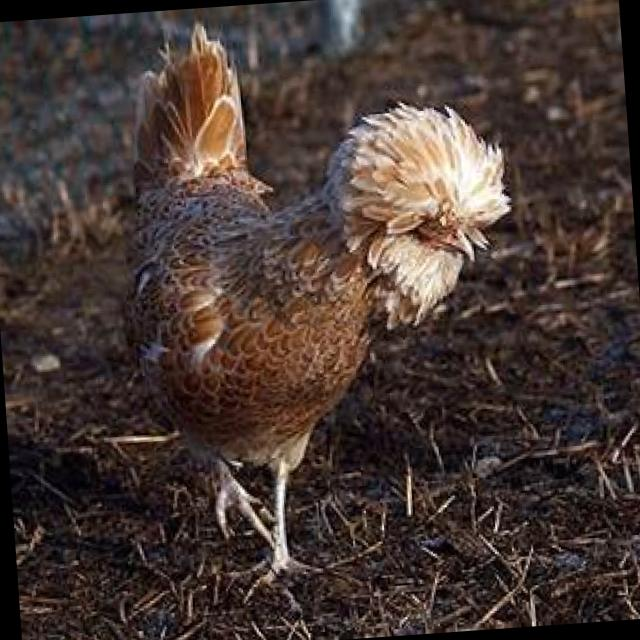chicken: (102, 0, 540, 594)
